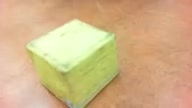cube: (26, 19, 121, 108)
